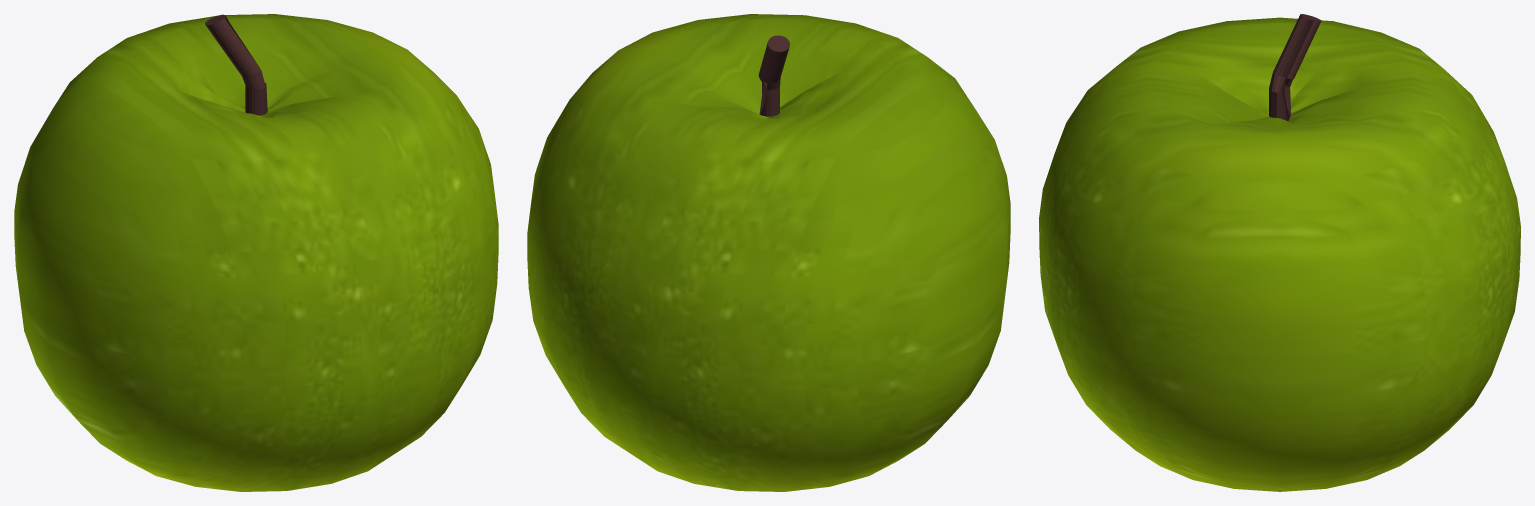
The model's file is Green_Apple.fbx.
3 views of the same model, side by side, from view 1: azimuth 30°, elevation 25°; view 2: azimuth 150°, elevation 25°; view 3: azimuth 270°, elevation 25° (orthographic).
Parts seen in each view (by area): view 1: Green_Apple; view 2: Green_Apple; view 3: Green_Apple.
Boxes of the visible parts, <box> form: Green_Apple: <box>14,14,498,491</box>; Green_Apple: <box>527,14,1010,491</box>; Green_Apple: <box>1039,14,1520,491</box>.
Size of the model in its own units: 1.69 by 1.64 by 1.69.
